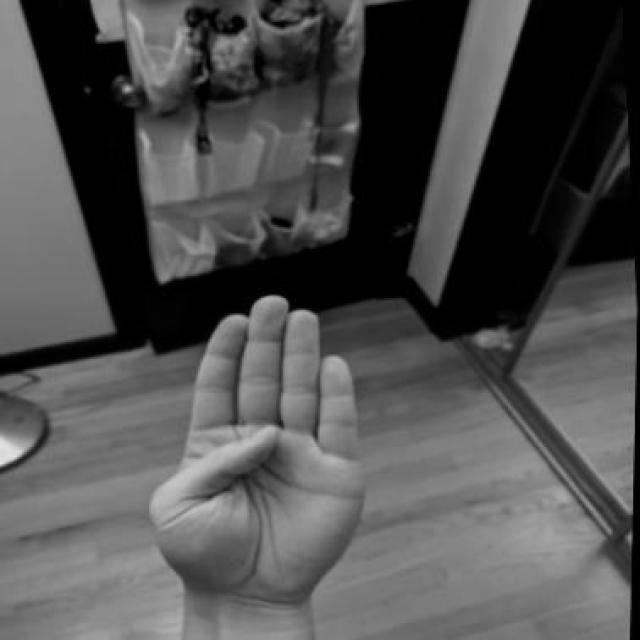B: (126, 284, 385, 626)
